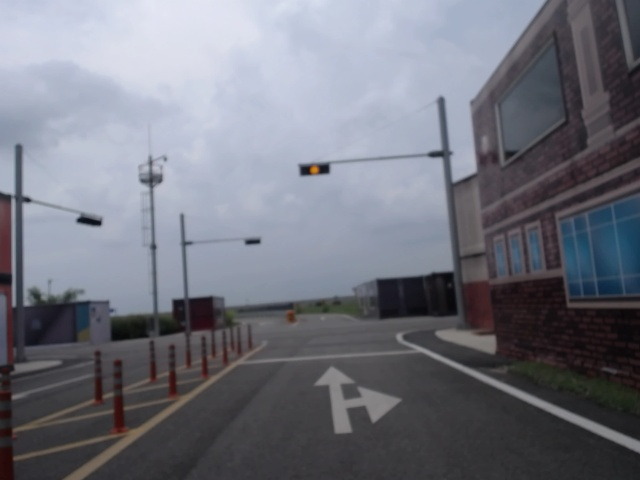orange_3: (299, 162, 330, 176)
